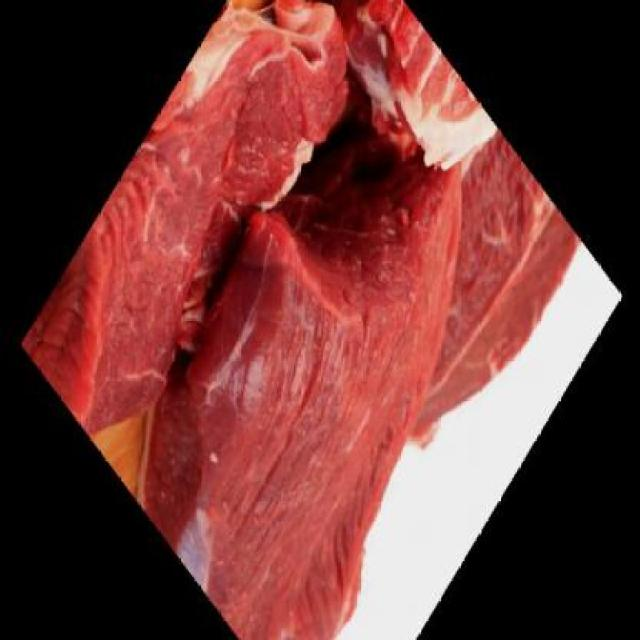beaf: (107, 26, 564, 639), (19, 0, 375, 485), (339, 115, 584, 492), (297, 0, 501, 234)
